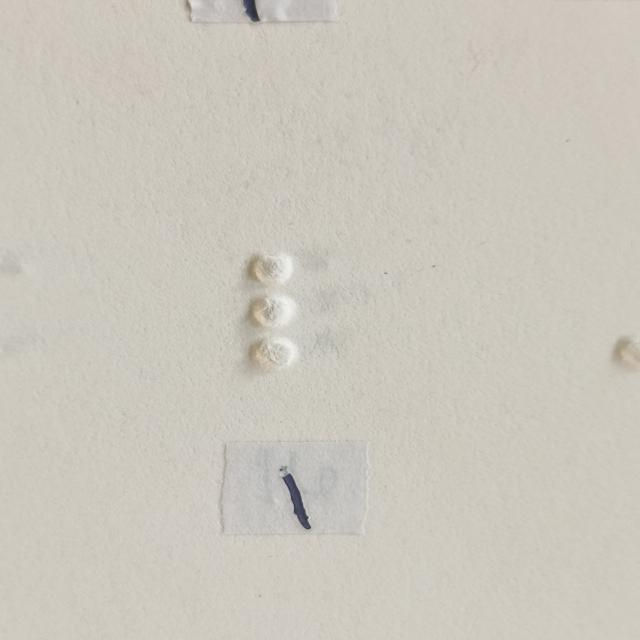l: (252, 253, 337, 373)
